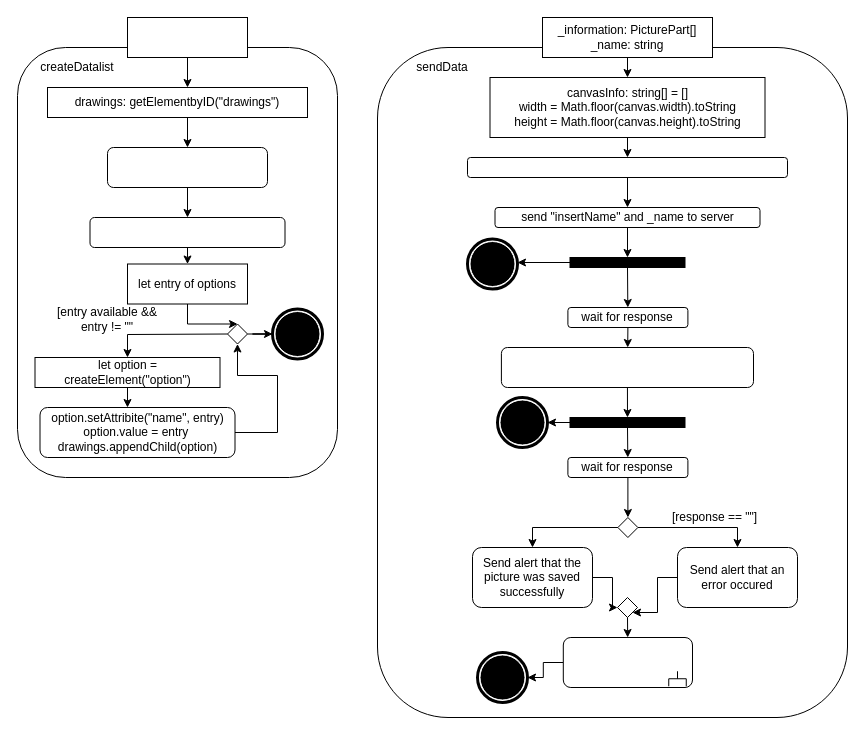
The diagram is 865 pixels wide and 735 high, and some of its shapes have lost their labels. The box of each missing label's shape, as (x1, y1, x2, y2) in pixels:
_response: string: (126, 16, 248, 58)
insertPicture(_name): (562, 636, 692, 688)
options = response split(","): (106, 146, 268, 188)
push width, height and background into canvasInfo: (466, 156, 788, 178)
remove all children from drawings: (89, 216, 285, 248)
send savePicture", _name, canvasInfo and _information to server: (500, 346, 754, 388)
